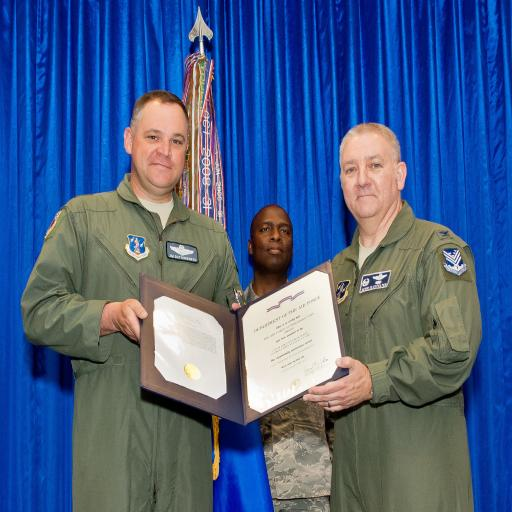Person: (13, 69, 255, 485), (295, 113, 501, 468), (230, 197, 350, 478)
no_gloves: (305, 340, 392, 395), (89, 286, 157, 341)
no_goggle: (128, 141, 200, 178), (336, 170, 408, 194), (248, 218, 294, 244)
no_helmet: (106, 105, 204, 215), (329, 123, 415, 226), (253, 198, 307, 269)
none: (34, 194, 250, 476), (320, 217, 491, 456)
